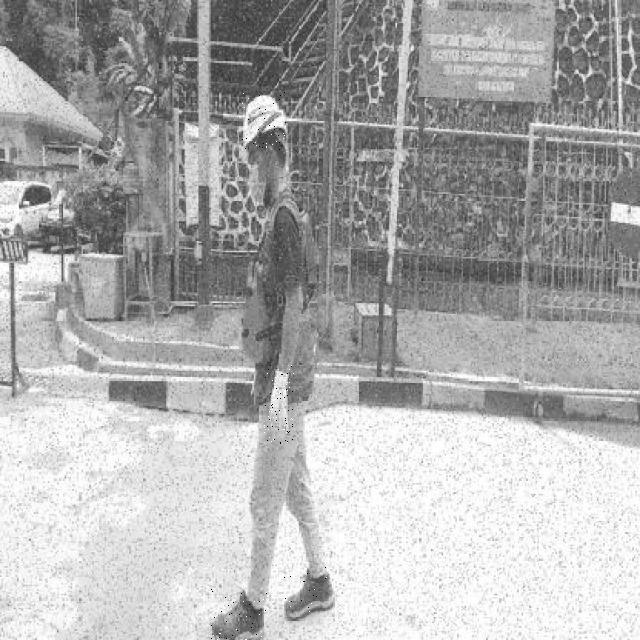10: (210, 91, 332, 640)
11: (235, 206, 317, 366)
helmet_white: (280, 562, 334, 624), (210, 588, 268, 640)
